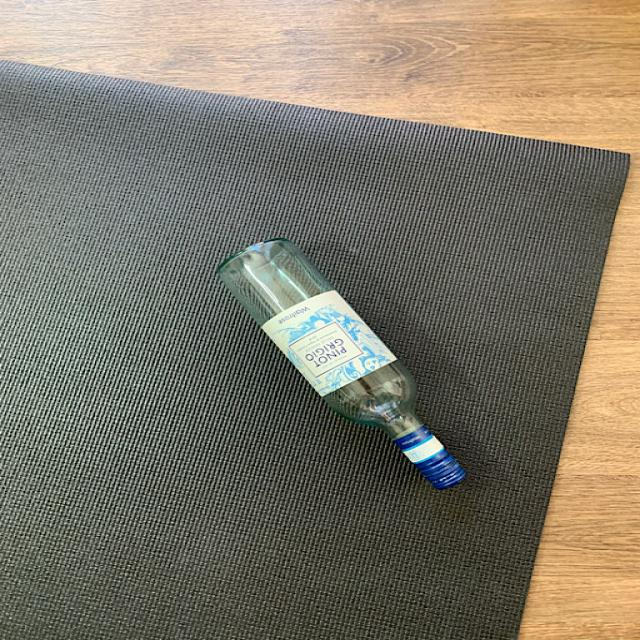litter: (208, 234, 472, 492)
